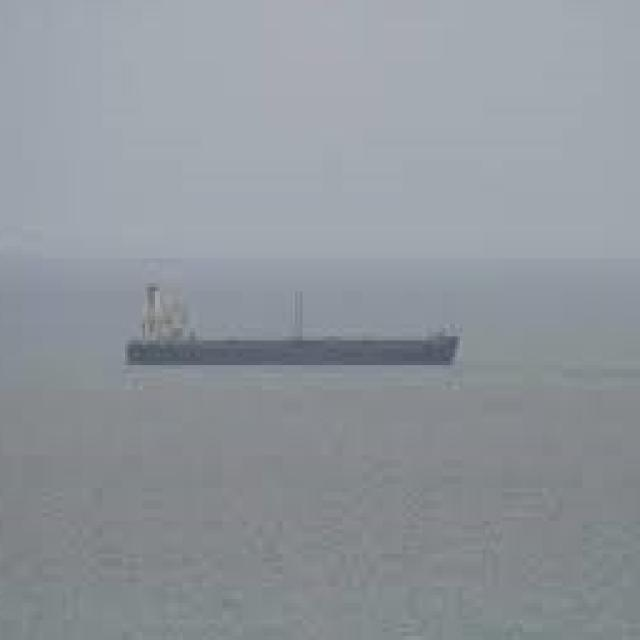cargoship: (122, 267, 460, 374)
